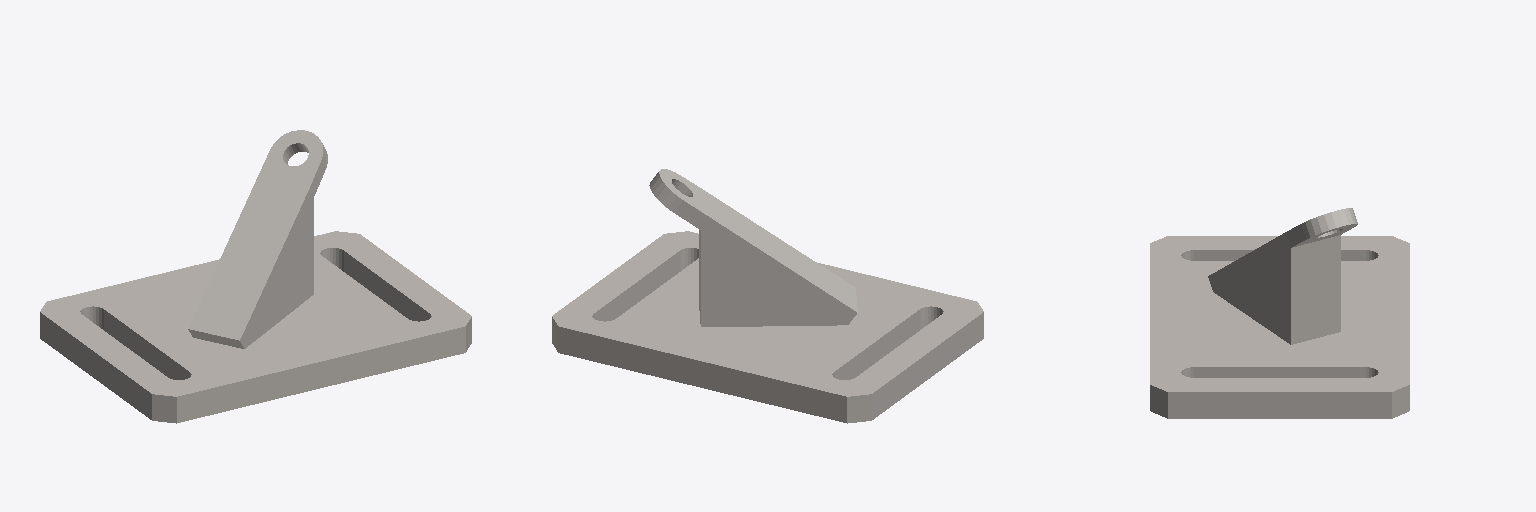
The model's file is secd_prob3.obj.
The picture shows the model from 3 angles: view 1: azimuth 30°, elevation 25°; view 2: azimuth 150°, elevation 25°; view 3: azimuth 270°, elevation 25°; orthographic projection.
Parts seen in each view (by area): view 1: SecD_Prob3; view 2: SecD_Prob3; view 3: SecD_Prob3.
Part boxes in pixels (bbox=[...]): SecD_Prob3: bbox=[40, 130, 471, 423]; SecD_Prob3: bbox=[552, 169, 983, 423]; SecD_Prob3: bbox=[1150, 208, 1409, 418].
Size of the model in its own units: 0.088 by 0.0445 by 0.062.